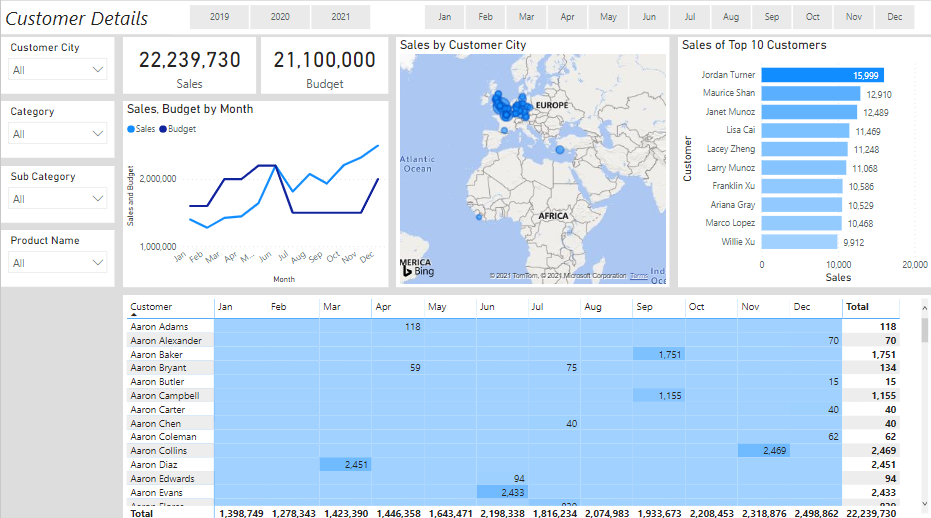

This screenshot's page, from the dashboard's own definition file:
{"tool":"powerbi","page":{"name":"Customer Details","canvas":[1280,720],"ordinal":1},"visuals":[{"type":"textbox","box":[0.5,0,1279.5,46.9],"z":0},{"type":"slicer","fields":{"Values":["DIM_Customers.Customer City"]},"box":[0,51.1,156.2,78.1],"z":1000},{"type":"slicer","fields":{"Values":["DIM_Product.Product Category"]},"box":[0,139.2,156.2,78.1],"z":2000},{"type":"slicer","fields":{"Values":["DIM_Product.Sub Category"]},"box":[0,228.6,156.2,78.1],"z":3000},{"type":"slicer","fields":{"Values":["DIM_Product.Product Name"]},"box":[0,316.7,156.2,78.1],"z":4000},{"type":"slicer","fields":{"Values":["DIM_Calender.Year"]},"box":[234.3,0,298.2,46.9],"z":5000},{"type":"slicer","fields":{"Values":["DIM_Calender.MonthShort"]},"box":[556.7,0,722.8,46.9],"z":6000},{"type":"lineChart","title":"Sales, Budget by Month","fields":{"Y":["FACT_InternetSales.Sales","FACTS_SalesBudget.Budget_Amount"],"Category":["DIM_Calender.MonthShort"]},"box":[167.6,139.2,365,255.6],"z":7000},{"type":"clusteredBarChart","title":"Sales of Top 10 Customers","fields":{"Y":["FACT_InternetSales.Sales"],"Category":["DIM_Customers.Full Name"]},"box":[930.2,51.1,349.3,343.7],"z":8000},{"type":"map","fields":{"Category":["DIM_Customers.Customer City"],"Size":["FACT_InternetSales.Sales"]},"box":[542.5,51.1,376.3,343.7],"z":9000},{"type":"card","fields":{"Values":["Key_Measures.Sales"]},"box":[167.6,51.1,183.2,78.1],"z":10000},{"type":"card","fields":{"Values":["Key_Measures.Budget_Amount"]},"box":[357.9,51.1,174.7,78.1],"z":11000},{"type":"pivotTable","fields":{"Values":["Key_Measures.Sales"],"Rows":["DIM_Customers.Full Name"],"Columns":["DIM_Calender.MonthShort"]},"box":[167.6,406.2,1112,313.8],"z":12000}]}

Visuals, with their boxes in screenshot pixels (x1, y1, x2, y2), scaled from the page's 1280x720 canvas onto the 931x518 screenshot:
textbox: l=0, t=0, r=930, b=34
slicer - DIM_Customers.Customer City: l=0, t=37, r=114, b=93
slicer - DIM_Product.Product Category: l=0, t=100, r=114, b=156
slicer - DIM_Product.Sub Category: l=0, t=164, r=114, b=221
slicer - DIM_Product.Product Name: l=0, t=228, r=114, b=284
slicer - DIM_Calender.Year: l=170, t=0, r=387, b=34
slicer - DIM_Calender.MonthShort: l=405, t=0, r=930, b=34
"Sales, Budget by Month" lineChart: l=122, t=100, r=387, b=284
"Sales of Top 10 Customers" clusteredBarChart: l=677, t=37, r=930, b=284
map - DIM_Customers.Customer City x FACT_InternetSales.Sales: l=395, t=37, r=668, b=284
card - Key_Measures.Sales: l=122, t=37, r=255, b=93
card - Key_Measures.Budget_Amount: l=260, t=37, r=387, b=93
pivotTable - Key_Measures.Sales x DIM_Customers.Full Name: l=122, t=292, r=930, b=517
